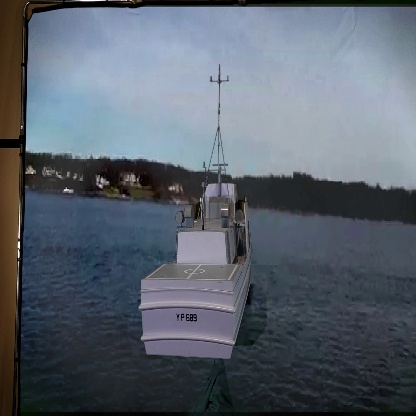YP689: (134, 62, 255, 361)
